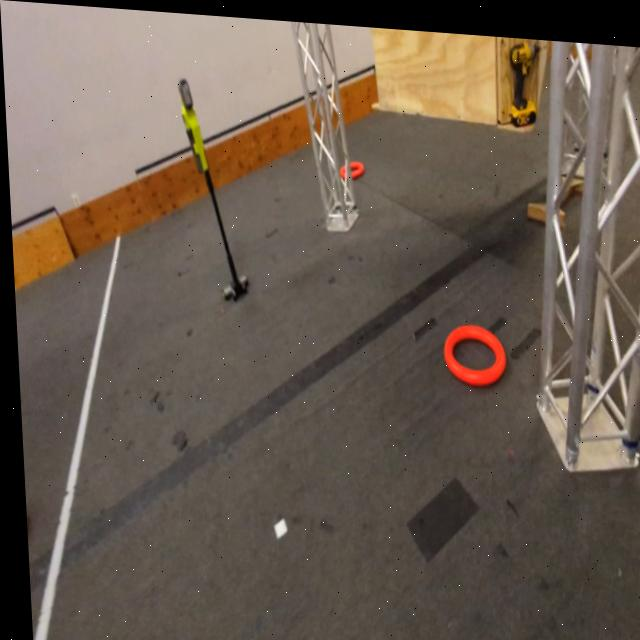note: (436, 319, 502, 380), (337, 155, 364, 175)
